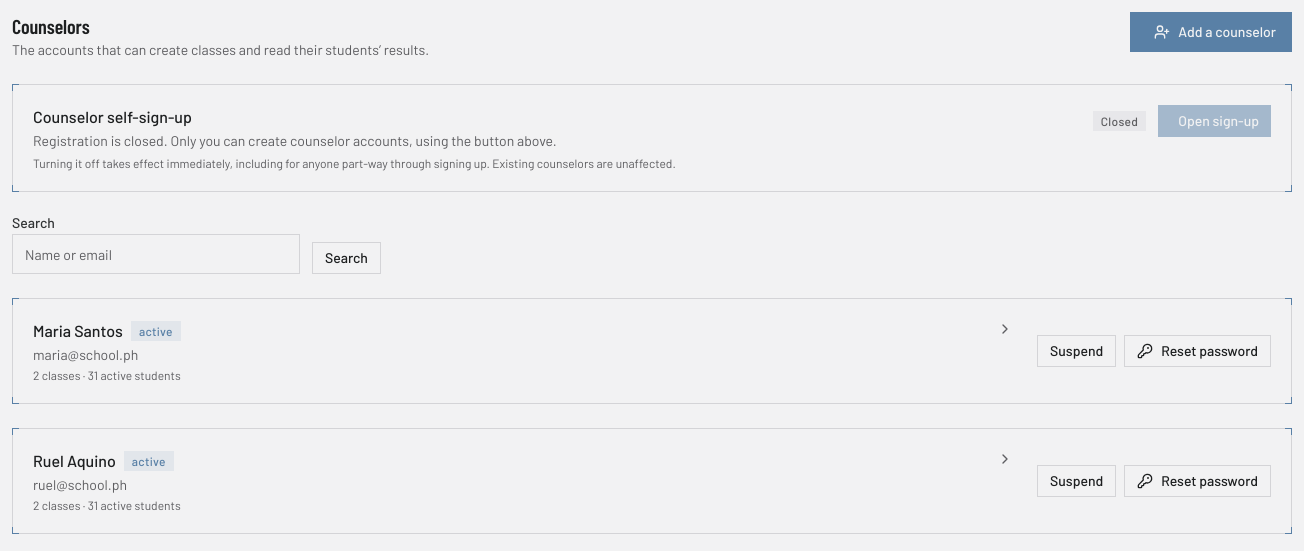
Test: CounselorManagementPage — reset password › abandons the reset on Cancel, leaving the account untouched
This screenshot has width=1304, height=551.
Click the button "Reset password" in the row of "maria@school.ph": x=1198, y=351 left=1124, top=335, right=1271, bottom=367
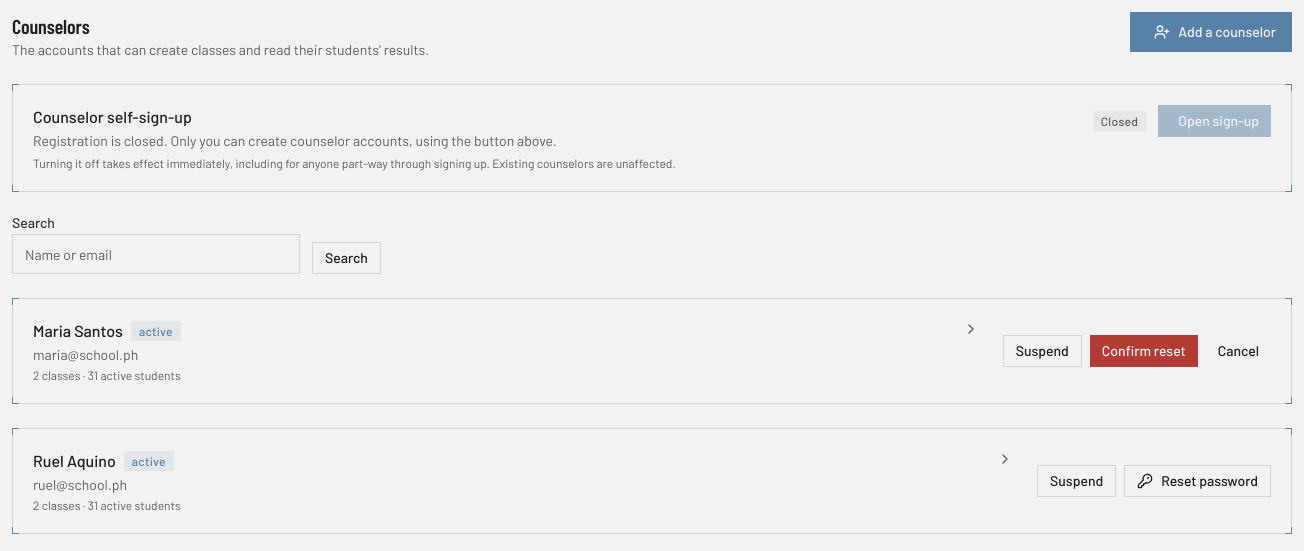
Click the button "Cancel": x=1238, y=351 left=1206, top=335, right=1271, bottom=367
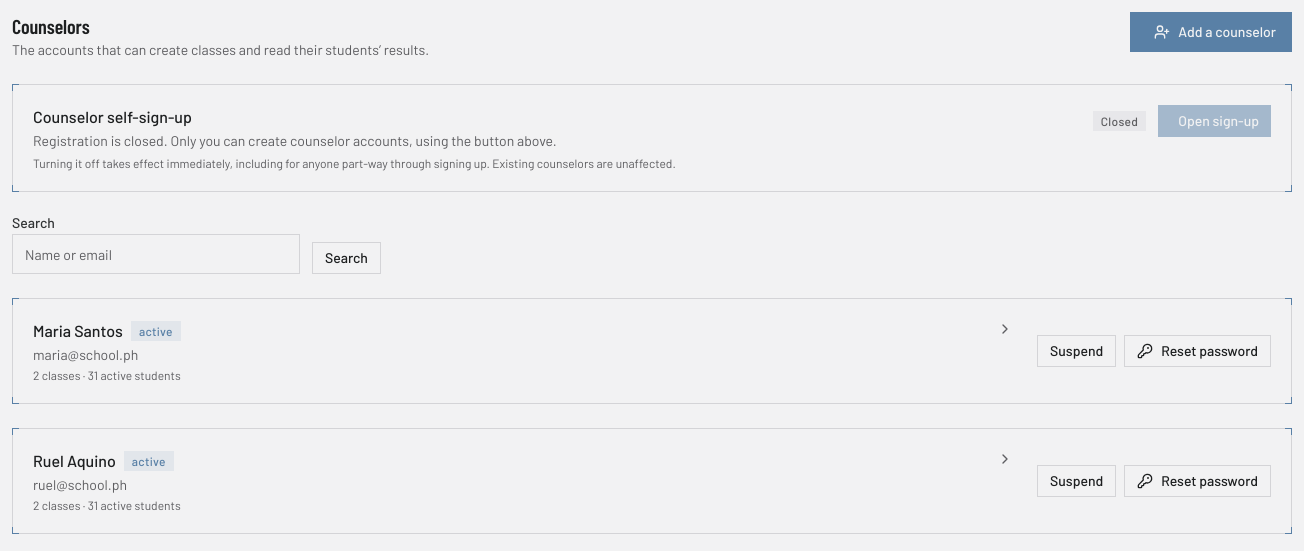
Expected: the button "Confirm reset" is gone
Expected: the number of buttons "Reset password" is 2, left=1124, top=335, right=1271, bottom=367; left=1124, top=465, right=1271, bottom=497
